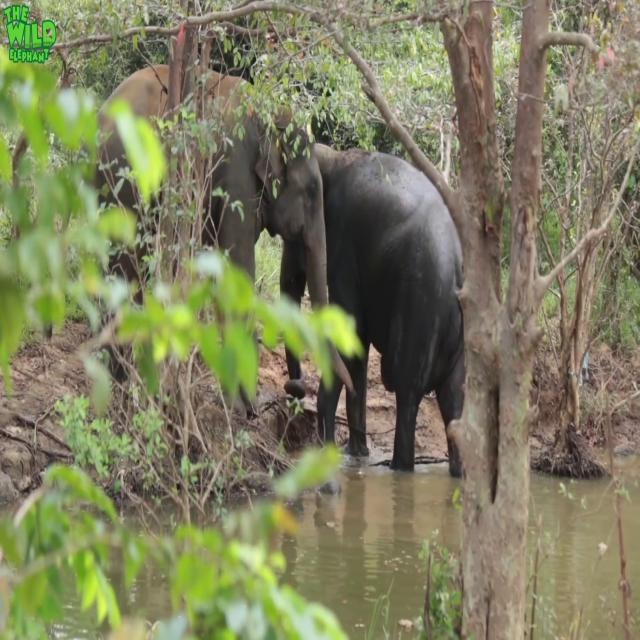Elephant: (76, 62, 353, 423), (280, 141, 466, 478)
